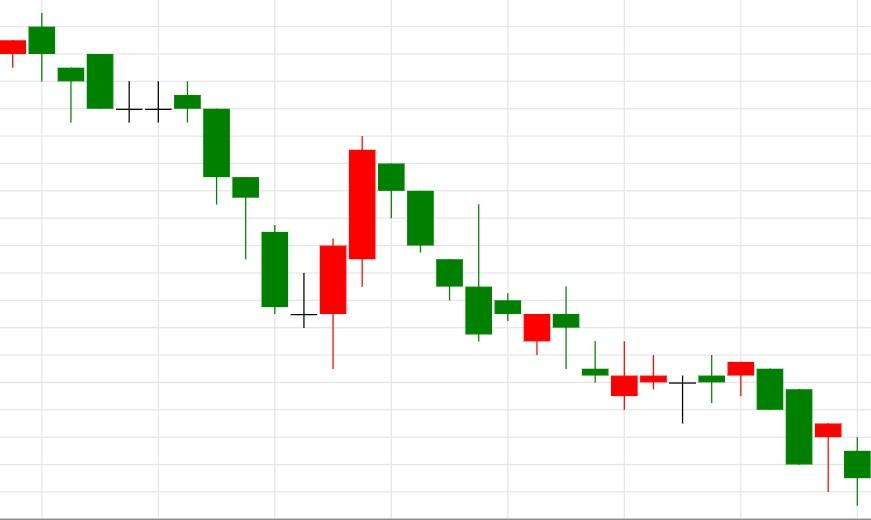morning_star_rise: (28, 12, 348, 370)
three_black_crows_fall: (319, 135, 464, 370)
